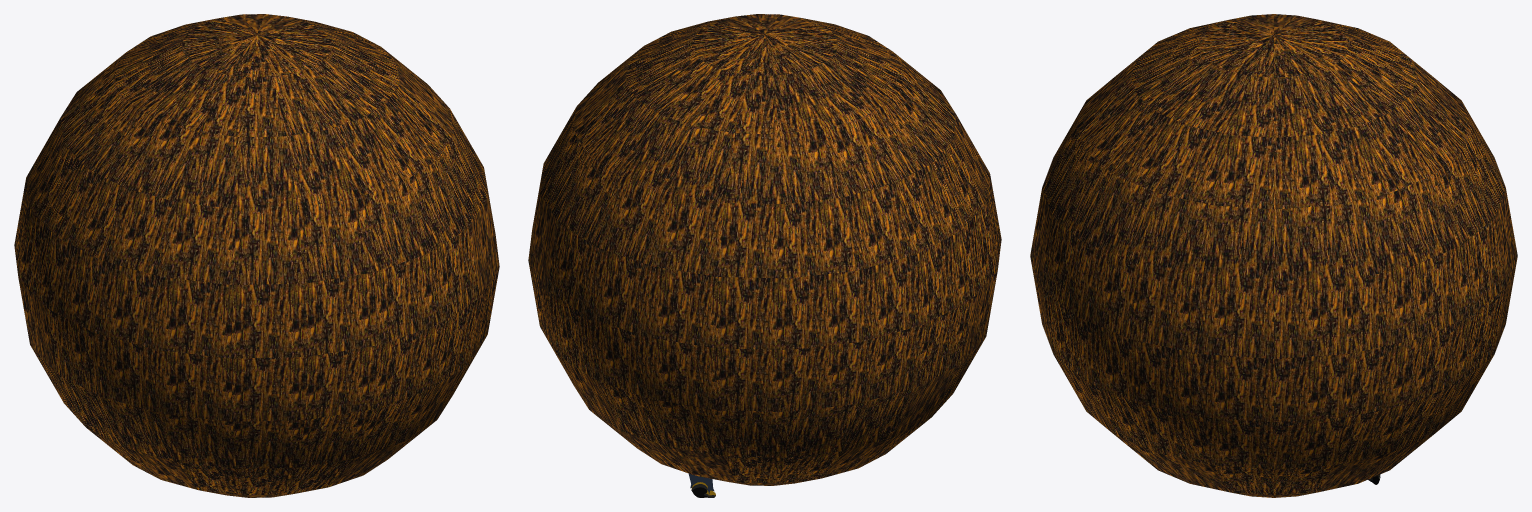
Rendered from Coconut.dae.
3 views of the same model, side by side, from view 1: azimuth 30°, elevation 25°; view 2: azimuth 150°, elevation 25°; view 3: azimuth 270°, elevation 25° (orthographic). The views are drawn at different scales.
Visible parts, largest first — view 1: SimpleSphere02; view 2: SimpleSphere02; view 3: SimpleSphere02.
Part boxes in pixels (x1=…): SimpleSphere02: x1=14, y1=14, x2=499, y2=497; SimpleSphere02: x1=528, y1=14, x2=1001, y2=485; SimpleSphere02: x1=1030, y1=14, x2=1517, y2=497.
Bounding box in the file's own units: 126 × 126 × 126.
